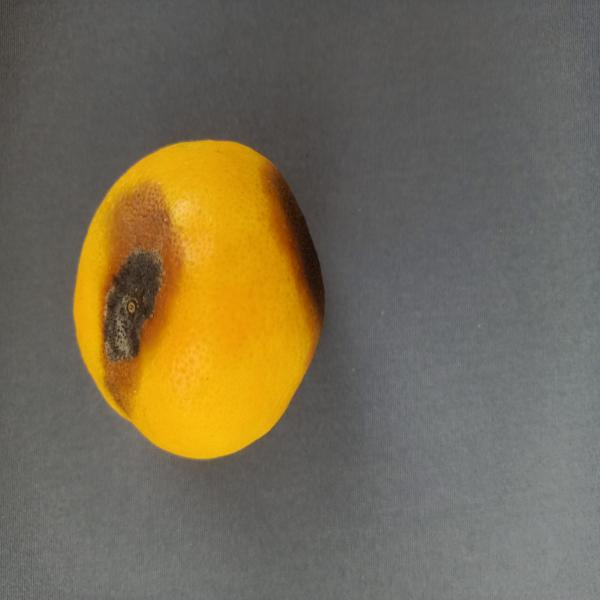Scab: (58, 126, 343, 468)
